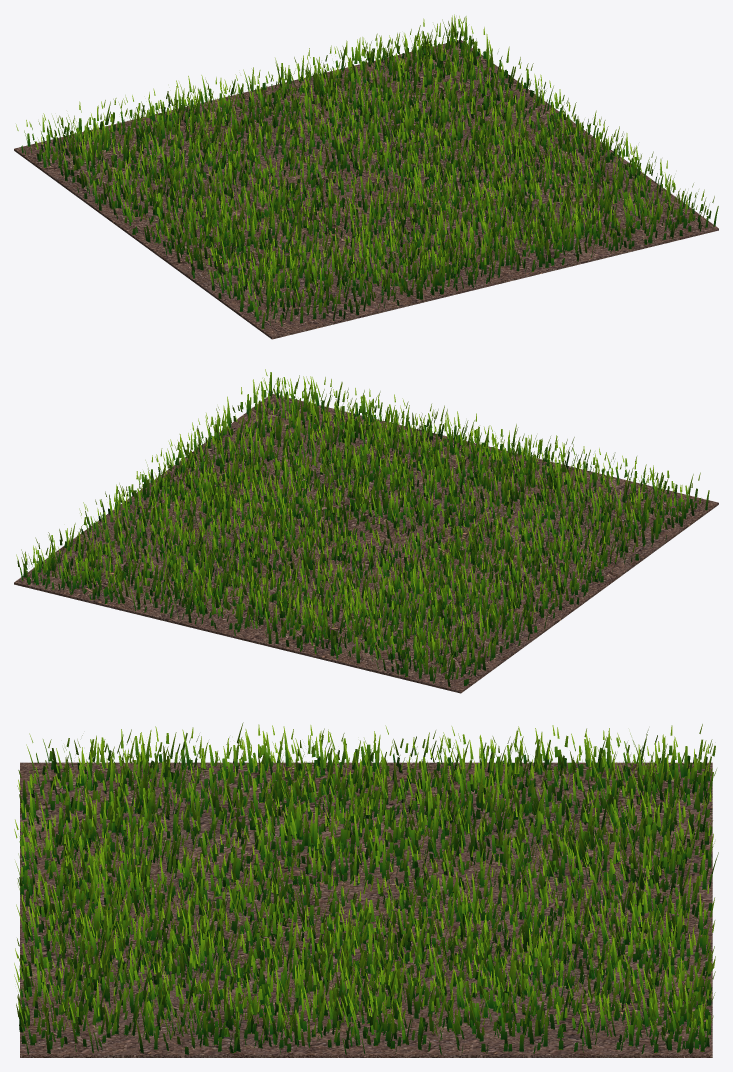
Rendered from scene_small.gltf.
3 renders of one model, top to bottom at view 1: azimuth 30°, elevation 25°; view 2: azimuth 150°, elevation 25°; view 3: azimuth 270°, elevation 25°, orthographic. The views are drawn at different scales.
Bounding box in the file's own units: 204 × 13.55 × 204.
2 materials, 2 textured.
